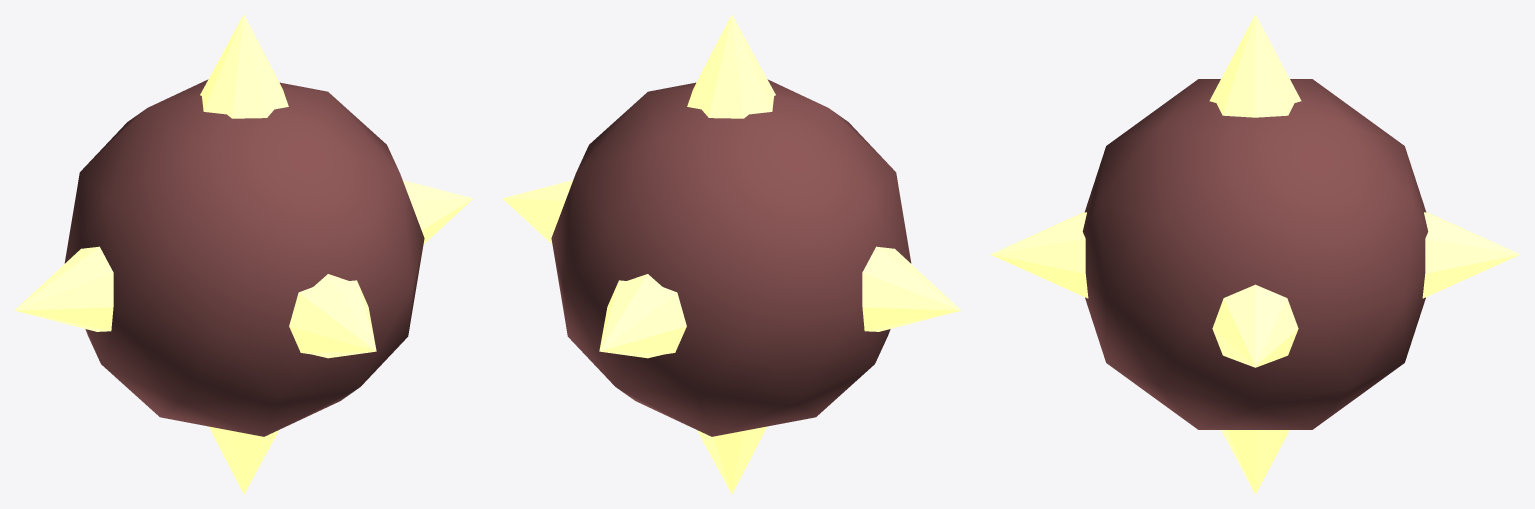
Rendered from PremioMalo.fbx.
3 renders of one model, left to right at view 1: azimuth 30°, elevation 25°; view 2: azimuth 150°, elevation 25°; view 3: azimuth 270°, elevation 25°, orthographic.
Visible parts, largest first — view 1: PremioMalo, Spike_5, Spike_0, Spike_3, Spike_1, Spike_2; view 2: PremioMalo, Spike_4, Spike_0, Spike_3, Spike_1, Spike_2; view 3: PremioMalo, Spike_0, Spike_2, Spike_4, Spike_5, Spike_1.
Boxes of the visible parts, x1=… form: PremioMalo: x1=64, y1=79, x2=424, y2=436; Spike_5: x1=289, y1=274, x2=376, y2=358; Spike_0: x1=200, y1=14, x2=288, y2=118; Spike_3: x1=14, y1=246, x2=113, y2=331; Spike_1: x1=209, y1=426, x2=278, y2=494; Spike_2: x1=402, y1=180, x2=473, y2=244; PremioMalo: x1=551, y1=79, x2=911, y2=436; Spike_4: x1=599, y1=274, x2=686, y2=358; Spike_0: x1=687, y1=14, x2=775, y2=118; Spike_3: x1=862, y1=246, x2=961, y2=331; Spike_1: x1=697, y1=426, x2=766, y2=494; Spike_2: x1=502, y1=180, x2=573, y2=244; PremioMalo: x1=1082, y1=79, x2=1428, y2=429; Spike_0: x1=1209, y1=14, x2=1301, y2=117; Spike_2: x1=1212, y1=284, x2=1298, y2=367; Spike_4: x1=1422, y1=212, x2=1520, y2=298; Spike_5: x1=990, y1=212, x2=1088, y2=298; Spike_1: x1=1221, y1=430, x2=1289, y2=494.
Bounding box in the file's own units: 1.15 × 1.15 × 1.15.
